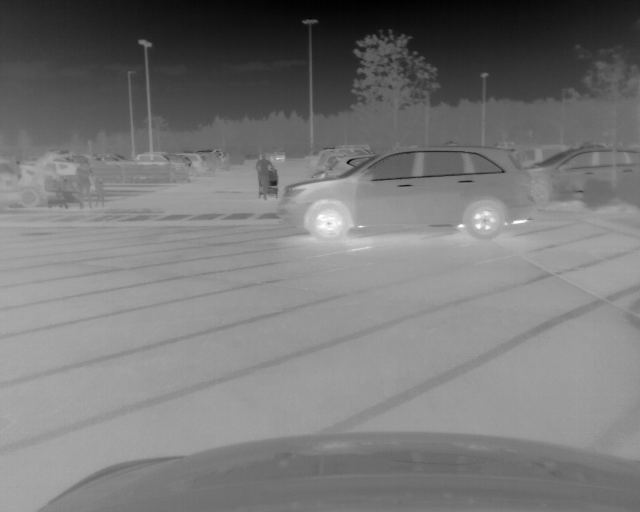car: (276, 146, 539, 239), (526, 144, 640, 204), (305, 152, 381, 181), (24, 164, 67, 210), (135, 152, 192, 180), (1, 157, 23, 207), (181, 154, 210, 176), (265, 147, 286, 162)
people: (75, 160, 95, 208), (257, 155, 275, 199), (91, 159, 107, 206)
